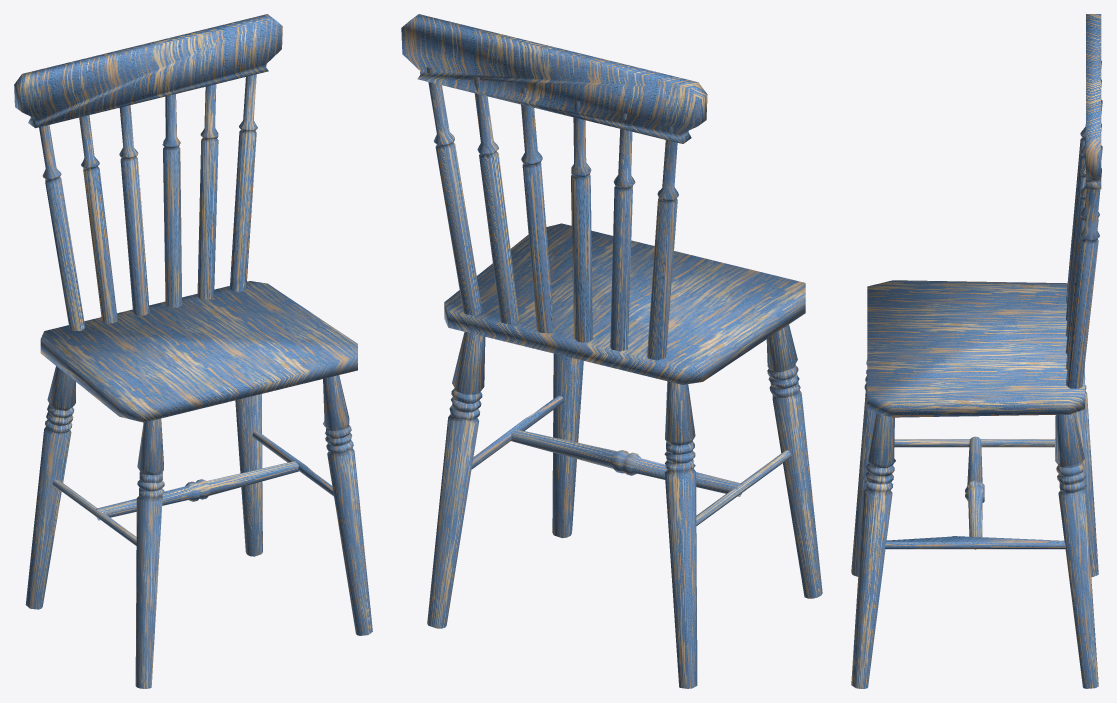
The model's file is antiquechair.fbx.
The picture shows the model from 3 angles, left to right: view 1: azimuth 30°, elevation 25°; view 2: azimuth 150°, elevation 25°; view 3: azimuth 270°, elevation 25°; orthographic projection. The views are drawn at different scales.
Parts seen in each view (by area): view 1: antiquechair.seat; view 2: antiquechair.seat; view 3: antiquechair.seat.
Part boxes in pixels (x1,y1,x2,y2): antiquechair.seat: [14, 14, 372, 688]; antiquechair.seat: [401, 14, 822, 688]; antiquechair.seat: [851, 14, 1102, 688].
Size of the model in its own units: 623 by 1210 by 496.
Materials: 1 (1 with a texture image).
